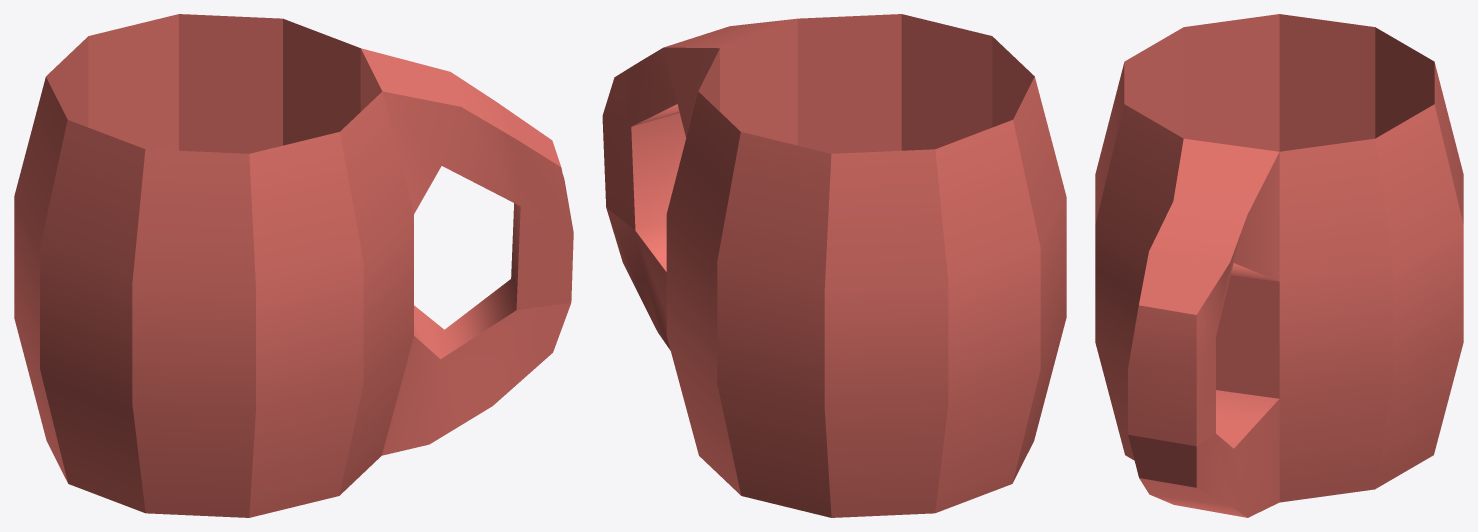
File: Mug_Normal.fbx
3 renders of one model, left to right at view 1: azimuth 30°, elevation 25°; view 2: azimuth 150°, elevation 25°; view 3: azimuth 270°, elevation 25°, orthographic. The views are drawn at different scales.
Parts seen in each view (by area): view 1: pCylinder4; view 2: pCylinder4; view 3: pCylinder4.
Part boxes in pixels (x1,y1,x2,y2): pCylinder4: (14,14,573,517); pCylinder4: (602,14,1066,517); pCylinder4: (1095,14,1463,517).
Bounding box in the file's own units: 25.58 × 18.51 × 17.61.
